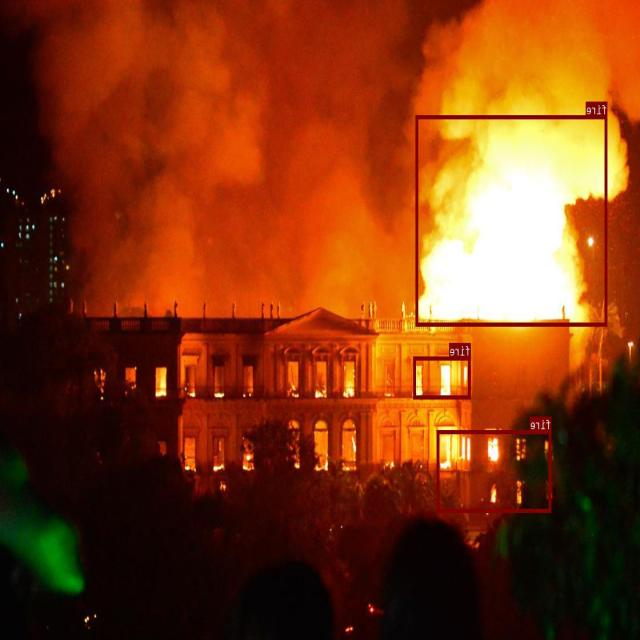fire: (416, 114, 608, 326), (438, 430, 552, 512), (414, 356, 471, 399)
